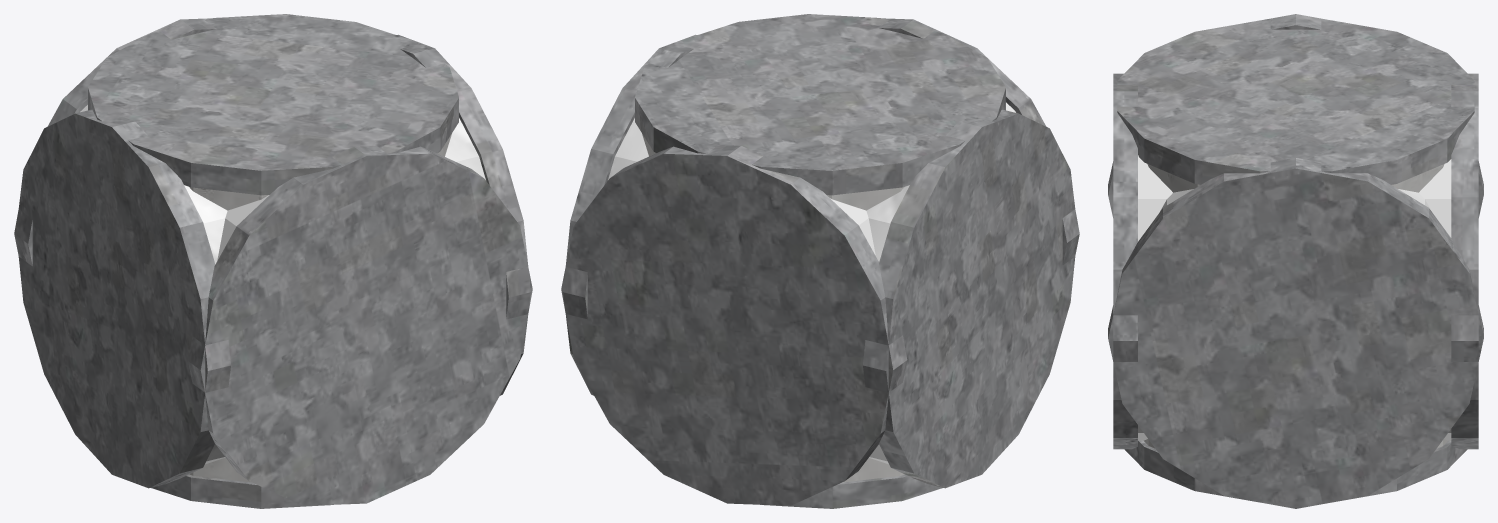
Rendered from Module-3-Centre-4.glb.
3 renders of one model, left to right at view 1: azimuth 30°, elevation 25°; view 2: azimuth 150°, elevation 25°; view 3: azimuth 270°, elevation 25°, orthographic. The views are drawn at different scales.
Parts seen in each view (by area): view 1: Cylinder.003, Cylinder.004, Hull.002, Cylinder.005, Hull.003, Cylinder.002, Cylinder, Hull.001, Cylinder.001; view 2: Cylinder.002, Cylinder.004, Hull.002, Cylinder.005, Hull.003, Cylinder.003, Cylinder, Hull.001, Cylinder.001; view 3: Cylinder.005, Hull.002, Cylinder.002, Cylinder.003, Cylinder.001, Hull.003, Cylinder.004, Hull.001.
Part boxes in pixels (box(x1,y1,x2,y2)): Cylinder.003: box(188, 146, 532, 505); Cylinder.004: box(18, 109, 230, 488); Hull.002: box(88, 14, 458, 195); Cylinder.005: box(397, 34, 530, 395); Hull.003: box(151, 474, 333, 508); Cylinder.002: box(14, 18, 216, 266); Cylinder: box(184, 118, 485, 464); Hull.001: box(189, 134, 451, 482); Cylinder.001: box(80, 105, 269, 260); Cylinder.002: box(561, 145, 907, 505); Cylinder.004: box(863, 109, 1075, 488); Hull.002: box(635, 14, 1005, 195); Cylinder.005: box(563, 34, 696, 395); Hull.003: box(760, 474, 942, 508); Cylinder.003: box(879, 18, 1079, 264); Cylinder: box(608, 118, 909, 464); Hull.001: box(642, 133, 904, 482); Cylinder.001: box(830, 102, 1015, 255); Cylinder.005: box(1108, 158, 1483, 508); Hull.002: box(1117, 20, 1474, 184); Cylinder.002: box(1451, 73, 1478, 449); Cylinder.003: box(1113, 73, 1137, 449); Cylinder.001: box(1138, 155, 1451, 440); Hull.003: box(1124, 440, 1467, 501); Cylinder.004: box(1108, 14, 1483, 217); Hull.001: box(1144, 164, 1447, 448).
Bounding box in the file's own units: 12.36 × 12.36 × 12.36.
3 materials, 3 textured.
